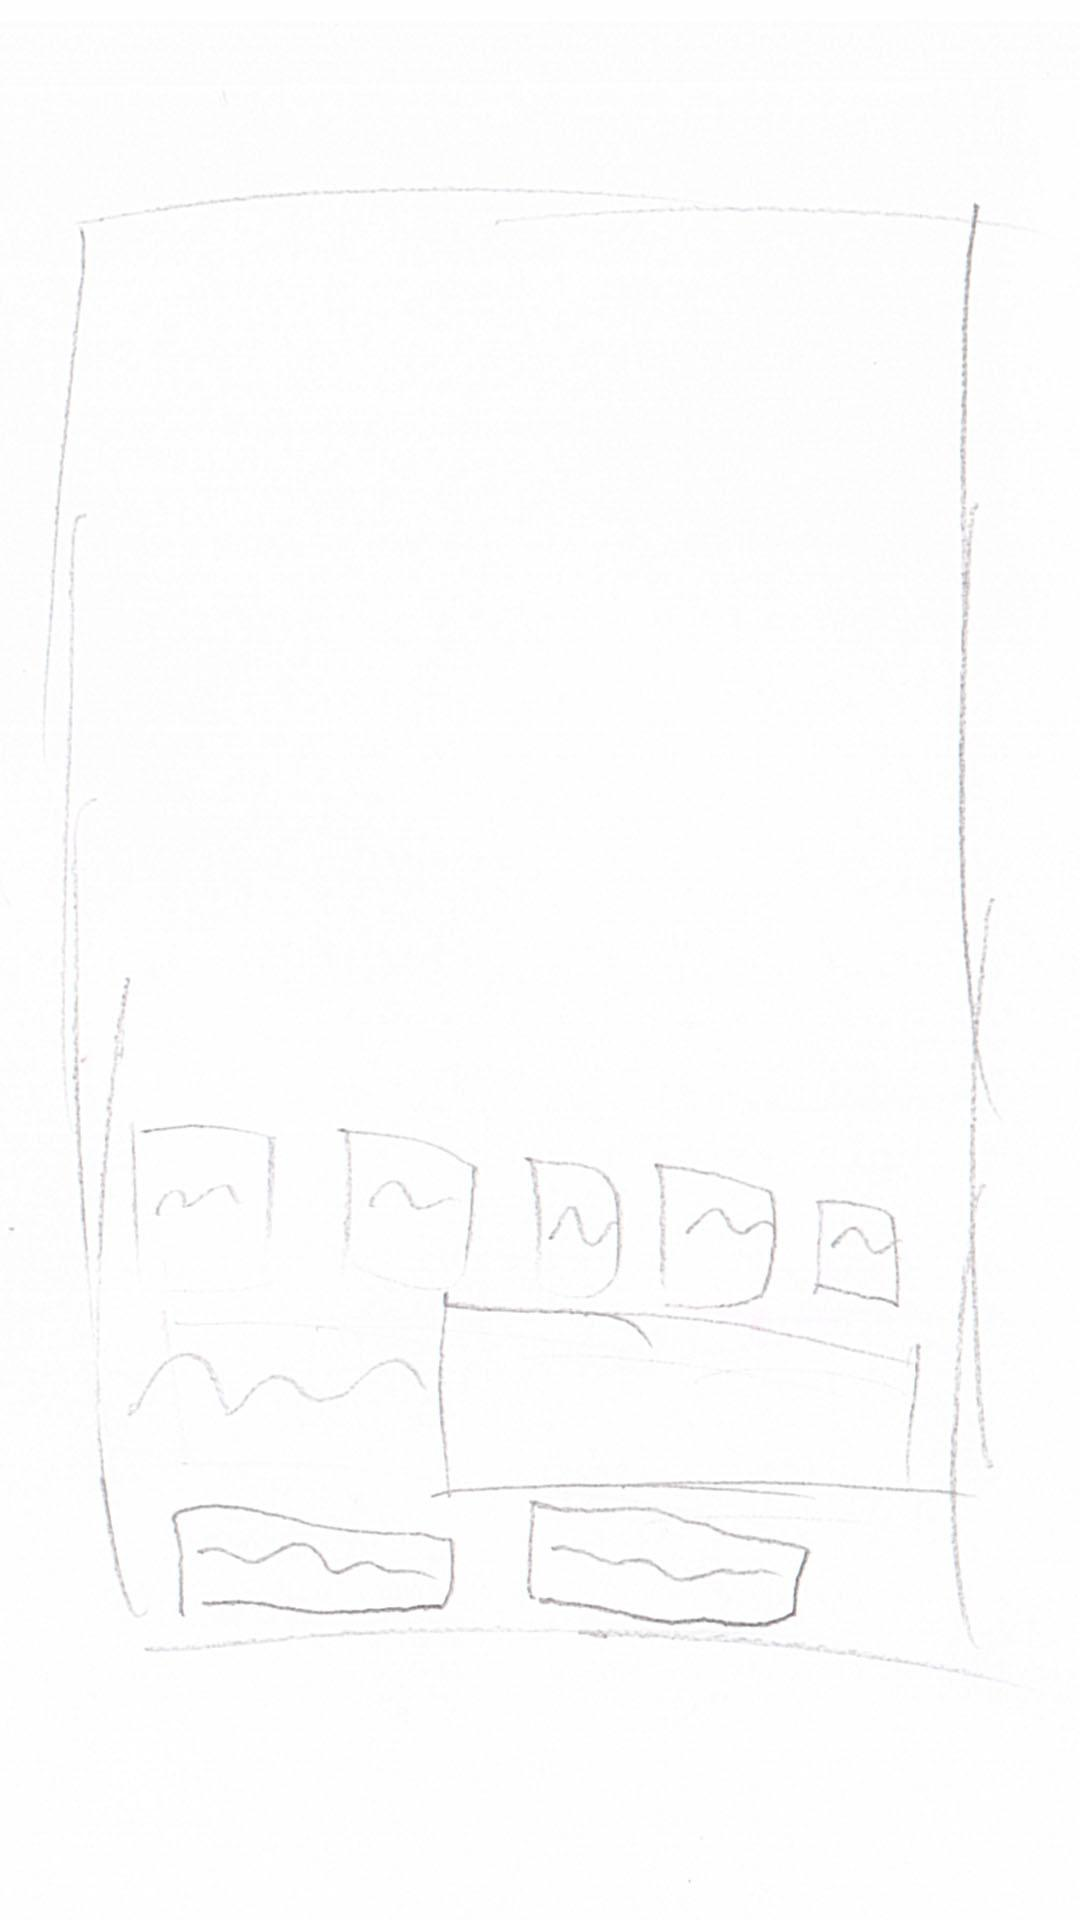Button: (529, 1502, 808, 1631), (170, 1507, 456, 1623), (347, 1133, 477, 1292), (136, 1131, 274, 1258), (661, 1170, 781, 1309), (529, 1163, 622, 1303), (811, 1195, 907, 1307)
Label: (127, 1356, 426, 1416)
Screen: (58, 204, 1005, 1687)
TextBox: (434, 1304, 919, 1498)
